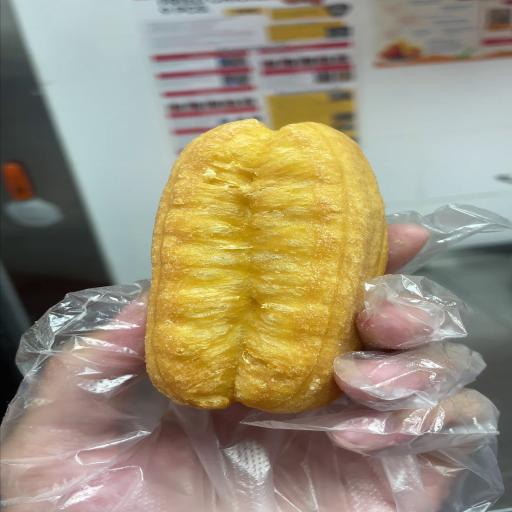brand_golden_good: (146, 119, 387, 412)
